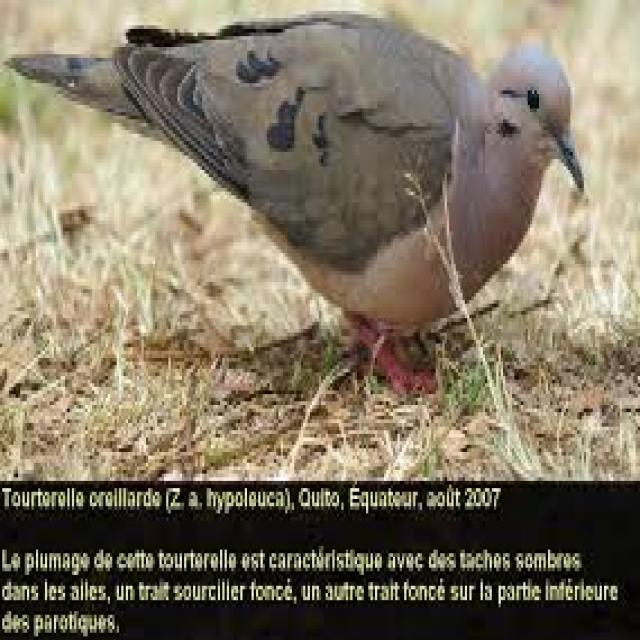pigeon: (0, 0, 591, 405)
